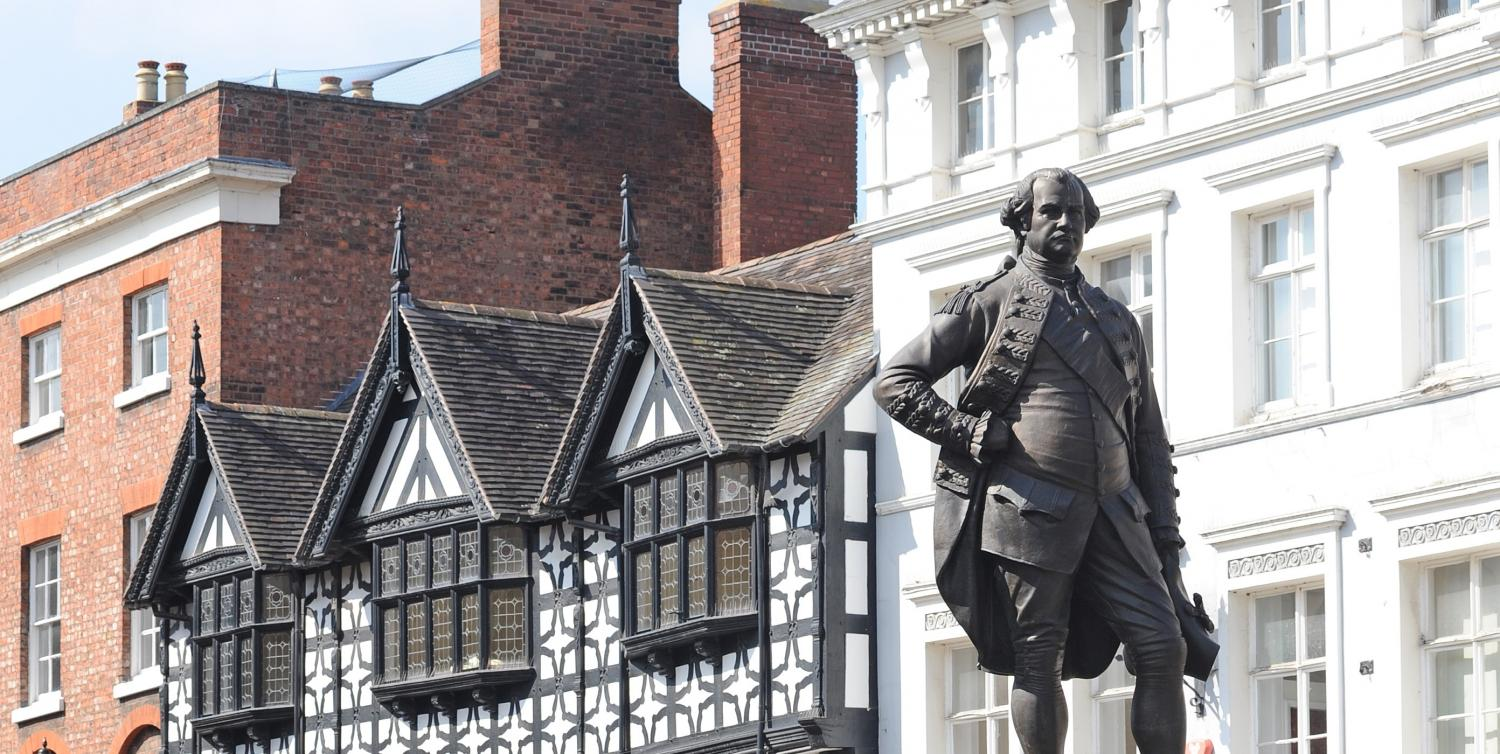person-like: (867, 157, 1217, 754)
